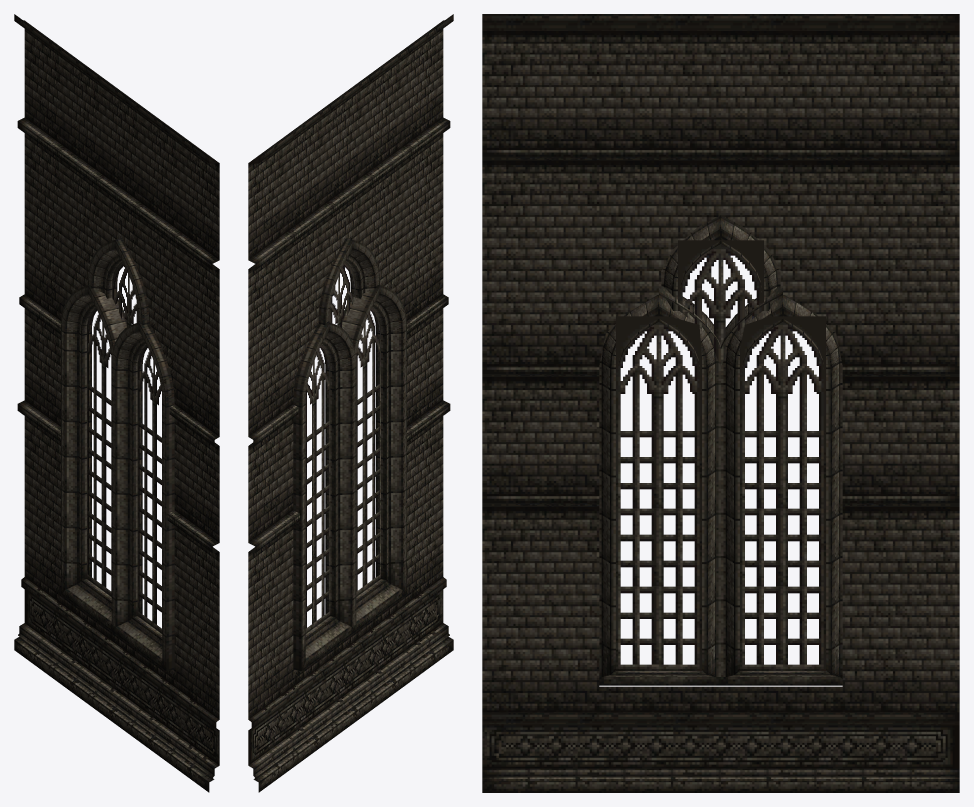
File: EnvMdrMD_Castle_LostSeed_A_Wall_D_Window_A.FBX
The picture shows the model from 3 angles, left to right: view 1: azimuth 30°, elevation 25°; view 2: azimuth 150°, elevation 25°; view 3: azimuth 270°, elevation 25°; orthographic projection. The views are drawn at different scales.
Visible parts, largest first — view 1: EnvMdrMD_Castle_LostSeed_A_Wall_D_Window_A; view 2: EnvMdrMD_Castle_LostSeed_A_Wall_D_Window_A; view 3: EnvMdrMD_Castle_LostSeed_A_Wall_D_Window_A.
Part boxes in pixels (x1,y1,x2,y2): EnvMdrMD_Castle_LostSeed_A_Wall_D_Window_A: [14, 14, 219, 792]; EnvMdrMD_Castle_LostSeed_A_Wall_D_Window_A: [248, 14, 453, 792]; EnvMdrMD_Castle_LostSeed_A_Wall_D_Window_A: [482, 14, 959, 792].
Size of the model in its own units: 65 by 1800 by 1000.
1 material, 1 textured.
